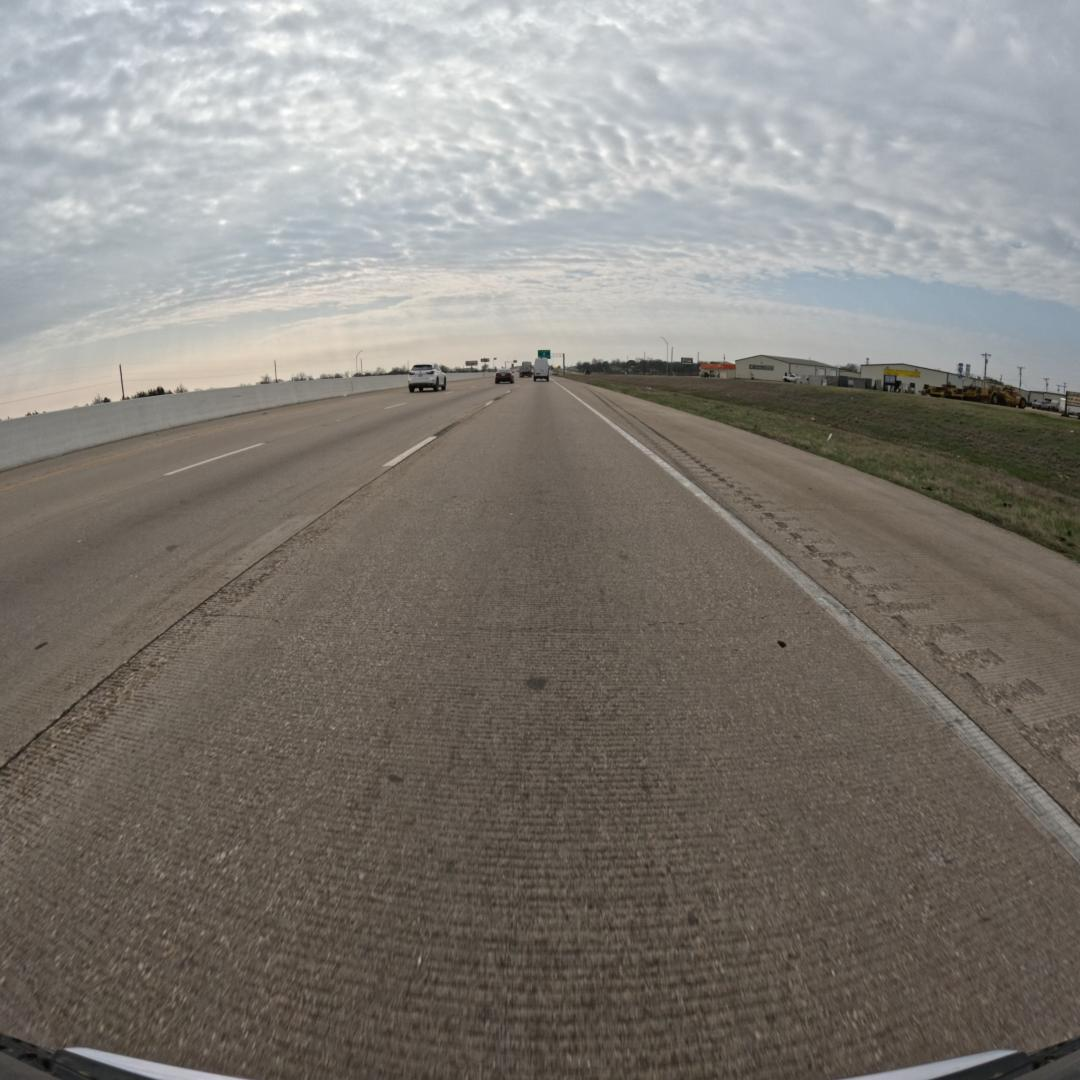lane0: (0, 383, 1080, 1080)
lane1: (0, 382, 509, 766)
